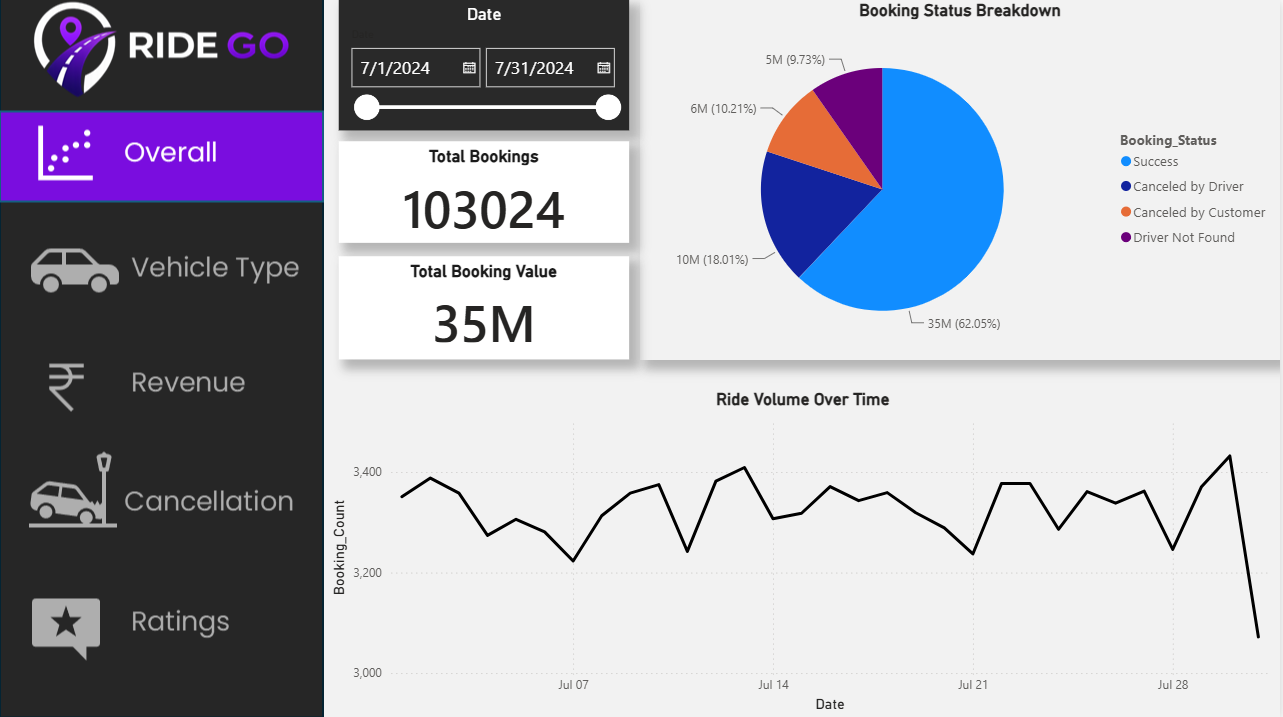

The page's visual inventory and layout, read from the dashboard file:
{"tool":"powerbi","page":{"name":"overall","canvas":[1280,720],"ordinal":0},"visuals":[{"type":"actionButton","box":[0,221.7,325,93.3],"z":0},{"type":"actionButton","box":[1.7,331.7,325,96.7],"z":1000},{"type":"actionButton","box":[0,441.7,326.7,110],"z":2000},{"type":"actionButton","box":[0,566.7,325,120],"z":3000},{"type":"lineChart","title":"Ride Volume Over Time","fields":{"Y":["CountNonNull(Bookings.Booking_ID)"],"Category":["Bookings.Date"]},"box":[326.7,388.3,953.3,328.3],"z":4000},{"type":"pieChart","title":"Booking Status Breakdown","fields":{"Category":["Bookings.Booking_Status"],"Y":["Sum(Bookings.Booking_Value)"]},"box":[640,0,640,360],"z":5000},{"type":"slicer","title":"Date","fields":{"Values":["Bookings.Date"]},"box":[338.3,0,290,130],"z":6000},{"type":"cardVisual","title":"Total Bookings","fields":{"Data":["CountNonNull(Bookings.Booking_ID)"]},"box":[338.3,141.7,290,101.7],"z":7000},{"type":"cardVisual","title":"Total Booking Value","fields":{"Data":["Sum(Bookings.Booking_Value)"]},"box":[338.3,256.7,290,103.3],"z":8000}]}

Visuals, with their boxes in screenshot pixels (x1, y1, x2, y2), scaled from the page's 1280x720 canvas onto the 1283x717 screenshot:
actionButton: {"left": 0, "top": 221, "right": 326, "bottom": 314}
actionButton: {"left": 2, "top": 330, "right": 327, "bottom": 427}
actionButton: {"left": 0, "top": 440, "right": 327, "bottom": 549}
actionButton: {"left": 0, "top": 564, "right": 326, "bottom": 684}
"Ride Volume Over Time" lineChart: {"left": 327, "top": 387, "right": 1282, "bottom": 714}
"Booking Status Breakdown" pieChart: {"left": 642, "top": 0, "right": 1282, "bottom": 358}
"Date" slicer: {"left": 339, "top": 0, "right": 630, "bottom": 129}
"Total Bookings" cardVisual: {"left": 339, "top": 141, "right": 630, "bottom": 242}
"Total Booking Value" cardVisual: {"left": 339, "top": 256, "right": 630, "bottom": 358}
